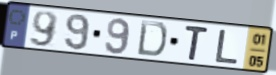9: (27, 10, 61, 48), (62, 12, 92, 51), (103, 17, 132, 55)
D: (136, 19, 169, 59)
L: (213, 28, 240, 66)
T: (183, 24, 210, 63)
